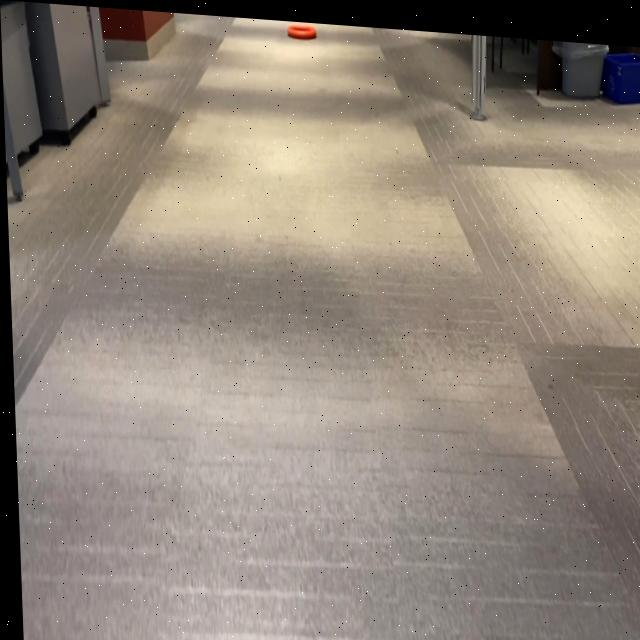note: (286, 17, 317, 40)
